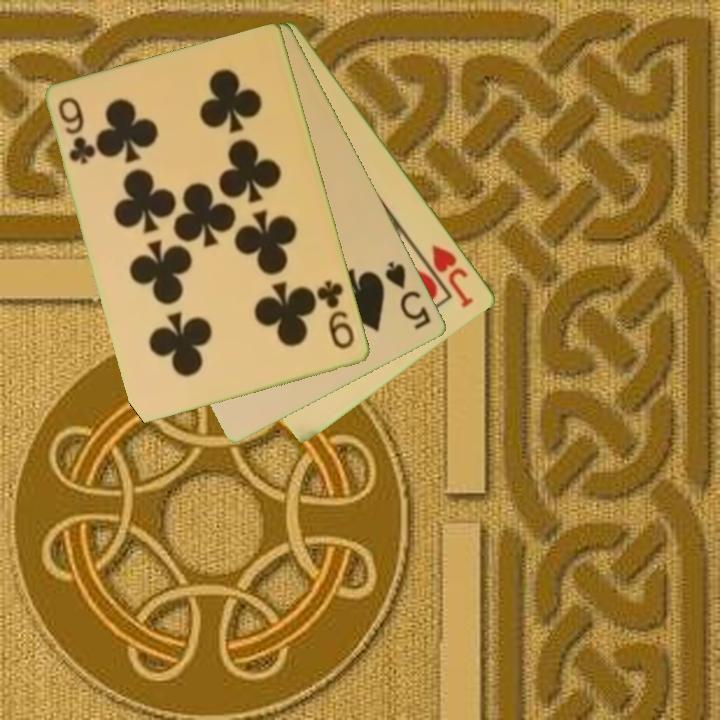5s: (382, 258, 435, 333)
9c: (314, 277, 358, 353), (55, 94, 99, 168)
Jh: (428, 240, 477, 311)
